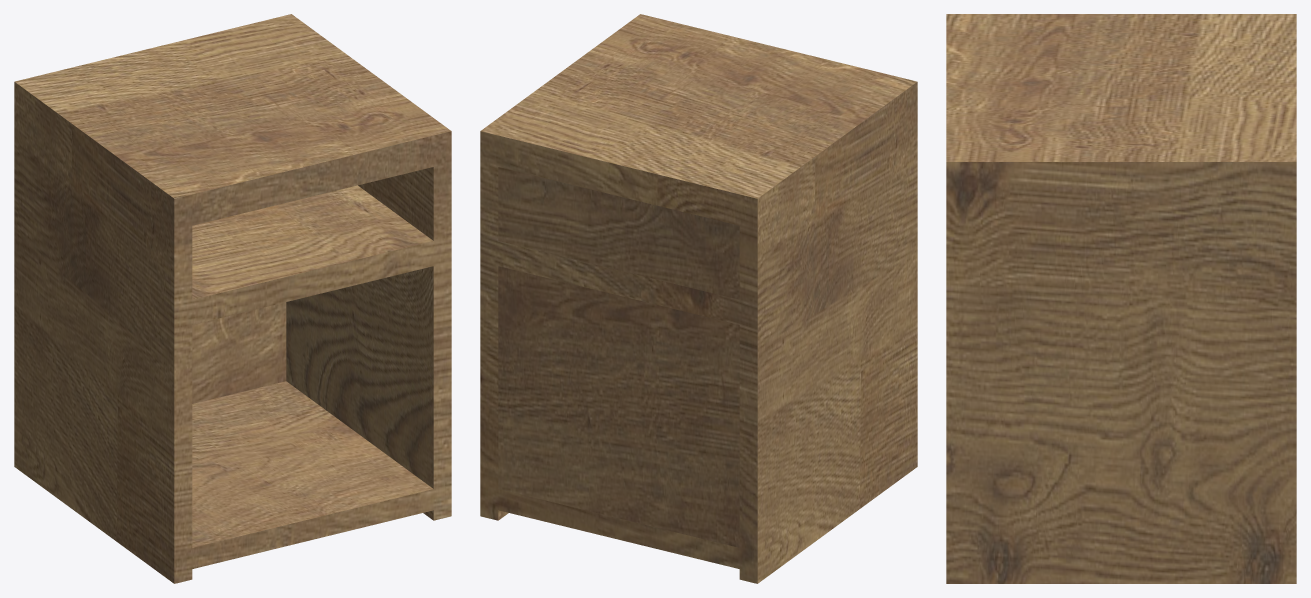
Rendered from тумбочка.fbx.
3 views of the same model, side by side, from view 1: azimuth 30°, elevation 25°; view 2: azimuth 150°, elevation 25°; view 3: azimuth 270°, elevation 25° (orthographic). The views are drawn at different scales.
Parts seen in each view (by area): view 1: Cube; view 2: Cube; view 3: Cube.
Boxes of the visible parts, x1=… form: Cube: x1=14, y1=14, x2=451, y2=583; Cube: x1=480, y1=14, x2=917, y2=583; Cube: x1=946, y1=14, x2=1296, y2=583.
Bounding box in the file's own units: 107 × 142 × 107.
1 material, 1 textured.
